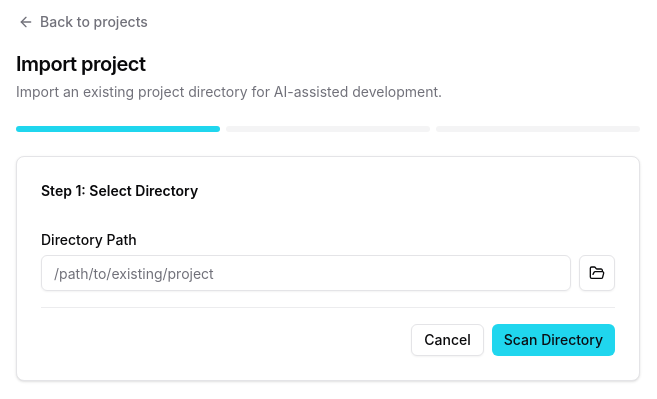
Scenario: ImportProjectPage native directory picker › prevents duplicate picks while a dialog is open
The width and height of the screenshot is (657, 399).
Click the button named "Browse" at {"x": 597, "y": 273}, box [579,255,615,291]
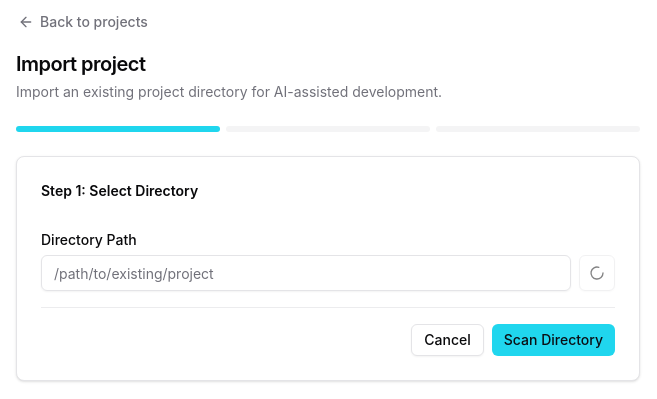
Result: the button named "Browse" is disabled
Click the button named "Browse" at {"x": 597, "y": 273}, box [579,255,615,291]
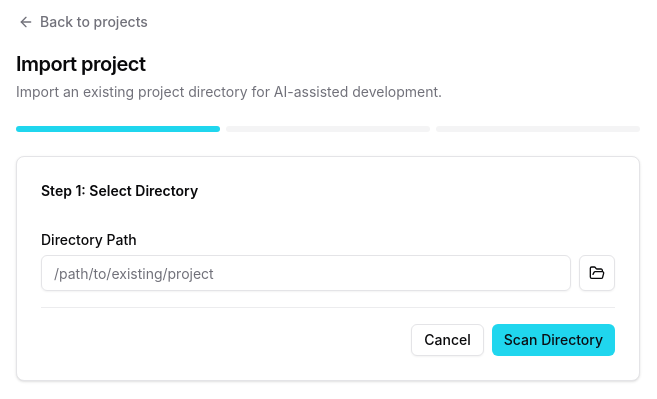
Result: the button named "Browse" is enabled at [579,255,615,291]
